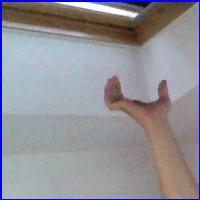space: (97, 71, 175, 125)
